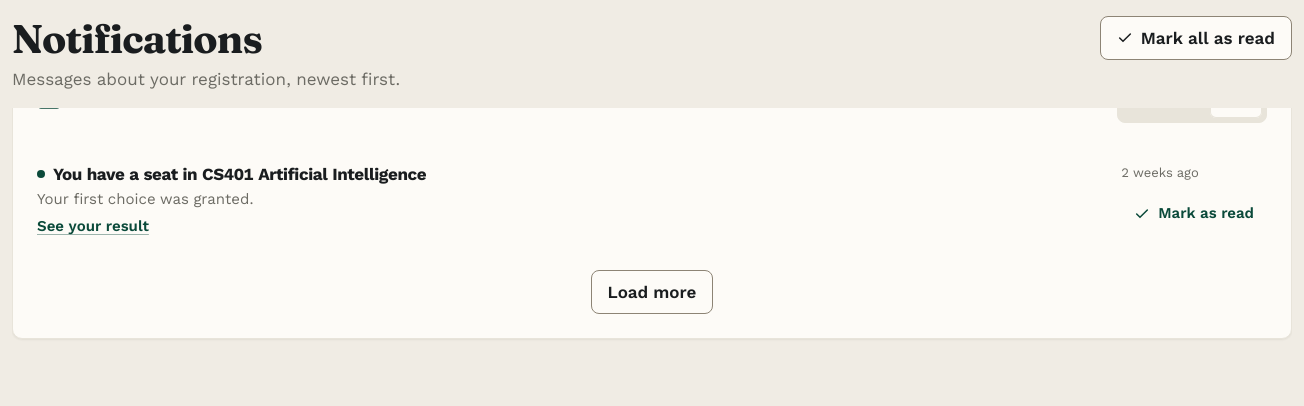
it: NotificationsPage › appends older messages rather than replacing them
Expected: the heading "You have a seat in CS401 Artificial Intelligence" is shown, [53,163,426,185]
Click the button "Load more" at (652, 292), box [591,270,713,314]
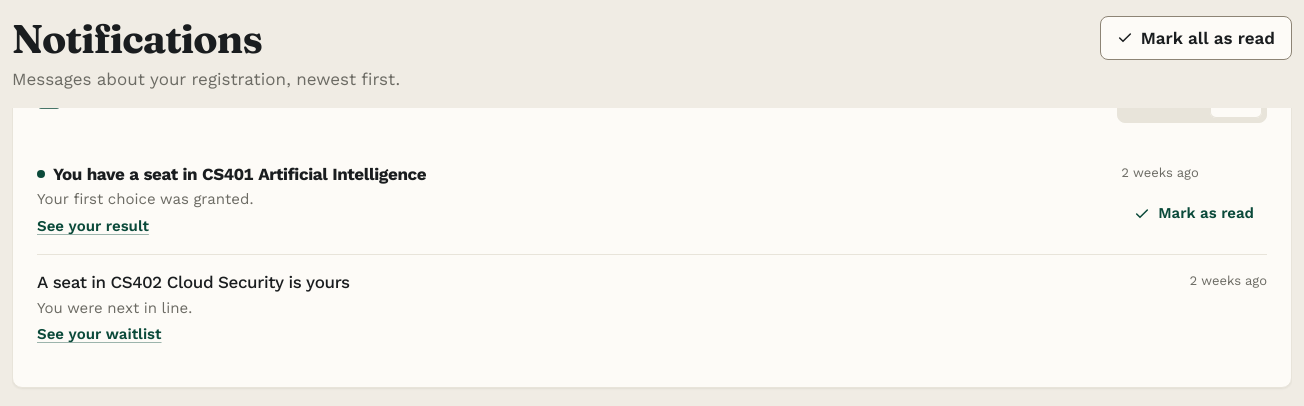
Expected: the heading "You have a seat in CS401 Artificial Intelligence" is shown, [53,163,426,185]
Result: the heading "A seat in CS402 Cloud Security is yours" is shown at [37,271,350,294]
Result: the button "Load more" is gone
